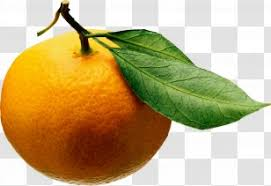orange: (1, 29, 172, 182)
